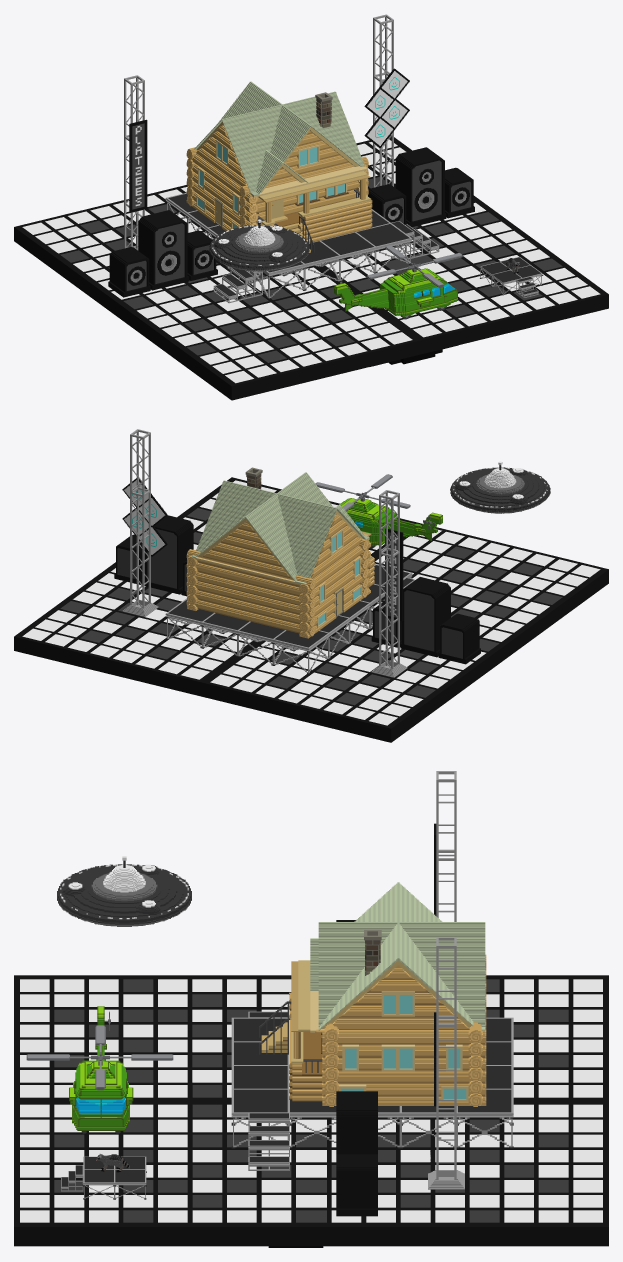
3 renders of one model, top to bottom at view 1: azimuth 30°, elevation 25°; view 2: azimuth 150°, elevation 25°; view 3: azimuth 270°, elevation 25°, orthographic. The views are drawn at different scales.
Visible parts, largest first — view 1: TERRAIN_DISCO_FLOOR, HOUSE_WOOD_TRUNKS, VEHICLES_HELICOPTER, OBJRANDOM_OVNI; view 2: TERRAIN_DISCO_FLOOR, HOUSE_WOOD_TRUNKS, OBJRANDOM_OVNI, VEHICLES_HELICOPTER; view 3: TERRAIN_DISCO_FLOOR, HOUSE_WOOD_TRUNKS, OBJRANDOM_OVNI, VEHICLES_HELICOPTER.
Boxes of the visible parts, box(x1,y1,x2,y2) form: TERRAIN_DISCO_FLOOR: box(14, 14, 608, 400); HOUSE_WOOD_TRUNKS: box(186, 81, 372, 252); VEHICLES_HELICOPTER: box(334, 245, 462, 319); OBJRANDOM_OVNI: box(209, 219, 309, 271); TERRAIN_DISCO_FLOOR: box(14, 429, 608, 742); HOUSE_WOOD_TRUNKS: box(186, 467, 374, 638); OBJRANDOM_OVNI: box(450, 461, 550, 513); VEHICLES_HELICOPTER: box(315, 474, 442, 548); TERRAIN_DISCO_FLOOR: box(14, 771, 608, 1246); HOUSE_WOOD_TRUNKS: box(259, 882, 486, 1106); OBJRANDOM_OVNI: box(57, 856, 191, 926); VEHICLES_HELICOPTER: box(26, 1006, 173, 1133).
Bounding box in the file's own units: 4000 × 2008 × 4000.
Materials: 28 (21 with a texture image).
